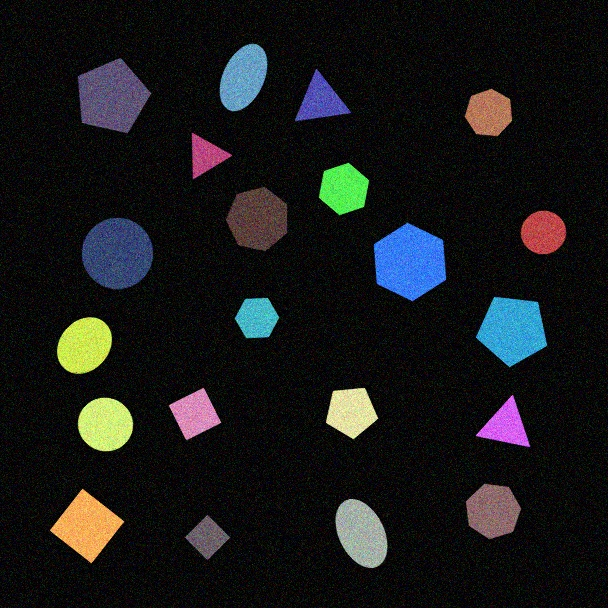Circulo: (81, 217, 154, 290), (77, 397, 134, 452), (520, 210, 567, 255)
Elipse: (335, 498, 388, 569), (219, 43, 268, 112), (56, 316, 113, 375)
Heptagono: (225, 186, 288, 252), (465, 483, 522, 540), (464, 88, 513, 137)
Hexagono: (373, 222, 447, 302), (318, 162, 370, 216), (234, 297, 280, 339)
Pentagono: (77, 57, 152, 134), (475, 296, 548, 368), (325, 387, 379, 440)
Quadrado: (49, 488, 125, 564), (168, 387, 222, 441), (184, 515, 231, 561)
Triangulo: (294, 69, 352, 122), (475, 395, 531, 448), (191, 132, 233, 180)
